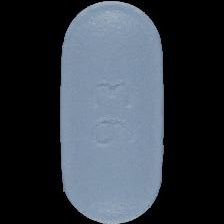0093-7355: (0, 0, 224, 224)
